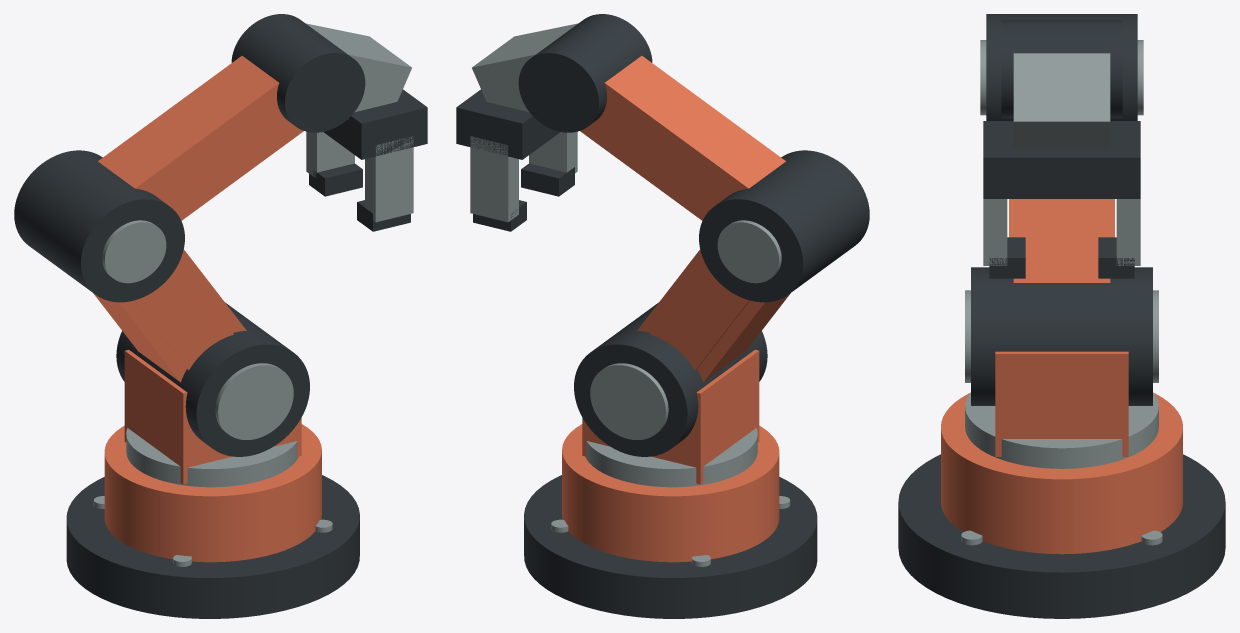
3 views of the same model, side by side, from view 1: azimuth 30°, elevation 25°; view 2: azimuth 150°, elevation 25°; view 3: azimuth 270°, elevation 25° (orthographic). The views are drawn at different scales.
Visible parts, largest first — view 1: 安装底盘, 旋转基座, 前臂, 肘关节, 腕关节, 肩关节, 肩部支架, 主臂盖板, 肩部端盖, 底座上盖, 夹爪基座, 主臂 (+6 smaller); view 2: 安装底盘, 旋转基座, 前臂, 肘关节, 腕关节, 肩关节, 肩部支架, 主臂盖板, 肩部端盖, 底座上盖, 夹爪基座, 主臂 (+6 smaller); view 3: 安装底盘, 旋转基座, 肩关节, 肩部支架, 夹爪基座, 末端连接, 主臂, 底座上盖, 腕关节, 肘关节, 夹爪左, 夹爪右 (+4 smaller).
Boxes of the visible parts, x1,y1,x2,y2 form: 安装底盘: (66, 475, 359, 618); 旋转基座: (104, 424, 321, 562); 前臂: (98, 56, 303, 220); 肘关节: (14, 150, 184, 302); 腕关节: (231, 14, 365, 132); 肩关节: (116, 302, 309, 456); 肩部支架: (124, 349, 301, 484); 主臂盖板: (134, 263, 233, 369); 肩部端盖: (215, 363, 293, 439); 底座上盖: (126, 428, 298, 487); 夹爪基座: (324, 89, 427, 159); 主臂: (93, 249, 246, 382); 安装底盘: (524, 475, 817, 618); 旋转基座: (562, 424, 779, 562); 前臂: (580, 56, 785, 220); 肘关节: (699, 150, 869, 302); 腕关节: (518, 14, 652, 132); 肩关节: (574, 302, 767, 456); 肩部支架: (582, 349, 759, 484); 主臂盖板: (650, 263, 749, 369); 肩部端盖: (590, 363, 668, 439); 底座上盖: (585, 428, 757, 487); 夹爪基座: (456, 89, 559, 159); 主臂: (637, 249, 790, 382); 安装底盘: (898, 454, 1225, 618); 旋转基座: (941, 393, 1182, 554); 肩关节: (971, 267, 1152, 405); 肩部支架: (995, 351, 1128, 456); 夹爪基座: (983, 121, 1140, 198); 末端连接: (1013, 53, 1110, 148); 主臂: (1013, 199, 1110, 282); 底座上盖: (965, 392, 1158, 468); 腕关节: (1001, 20, 1122, 118); 肘关节: (986, 14, 1137, 120); 夹爪左: (983, 199, 1007, 265); 夹爪右: (1116, 199, 1140, 265).
Size of the model in its own units: 0.72 by 1 by 0.52.
